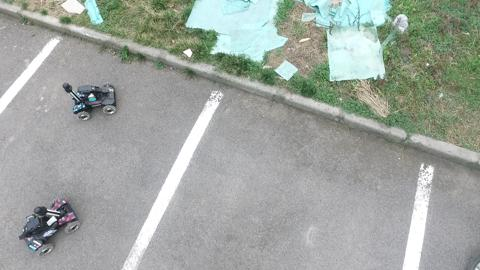chariot: (11, 196, 85, 259), (60, 78, 120, 122)
